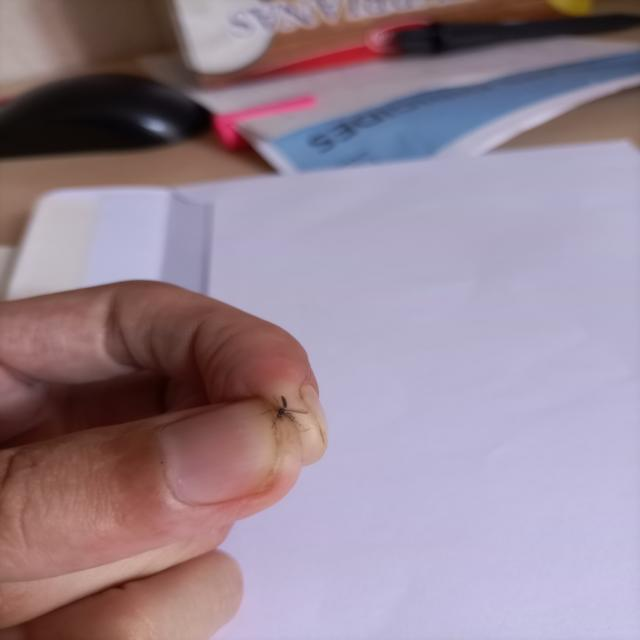albopictus: (244, 382, 324, 447)
